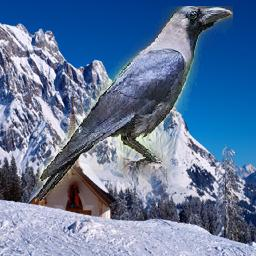Crow: (35, 6, 233, 202)
